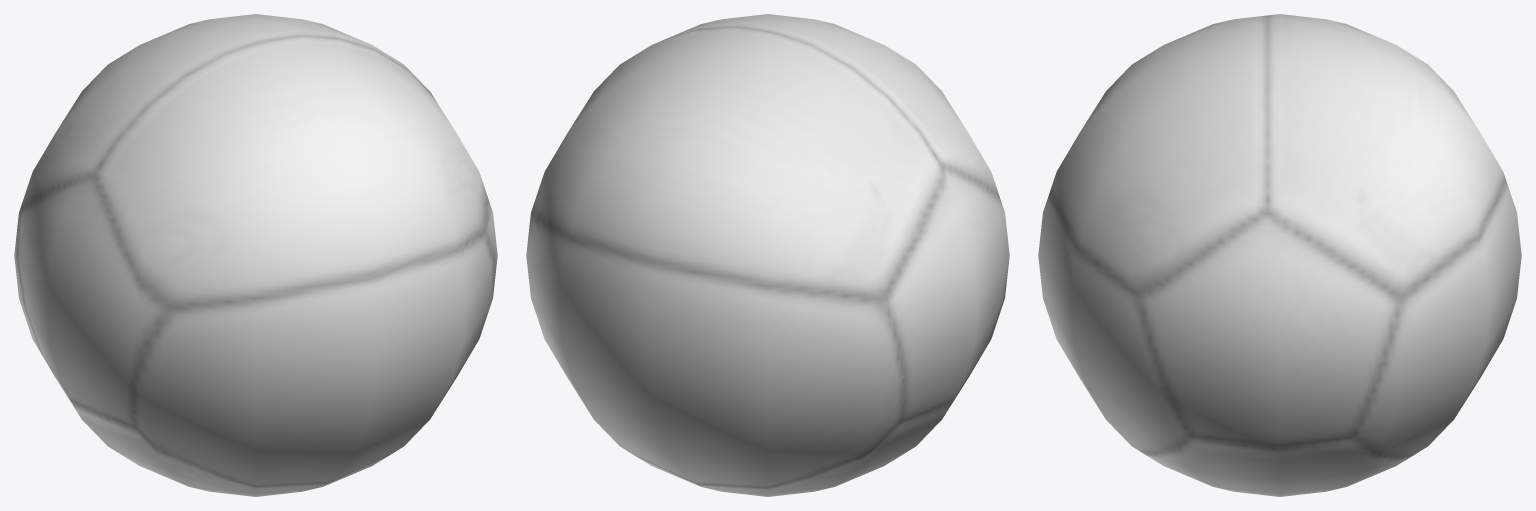
Rendered from Pelota.fbx.
3 renders of one model, left to right at view 1: azimuth 30°, elevation 25°; view 2: azimuth 150°, elevation 25°; view 3: azimuth 270°, elevation 25°, orthographic.
Parts seen in each view (by area): view 1: Pelota; view 2: Pelota; view 3: Pelota.
Boxes of the visible parts, x1,y1,x2,y2 form: Pelota: (14, 14, 497, 496); Pelota: (526, 14, 1009, 496); Pelota: (1038, 14, 1521, 496).
Bounding box in the file's own units: 0.28 × 0.28 × 0.28.
1 material, 1 textured.
